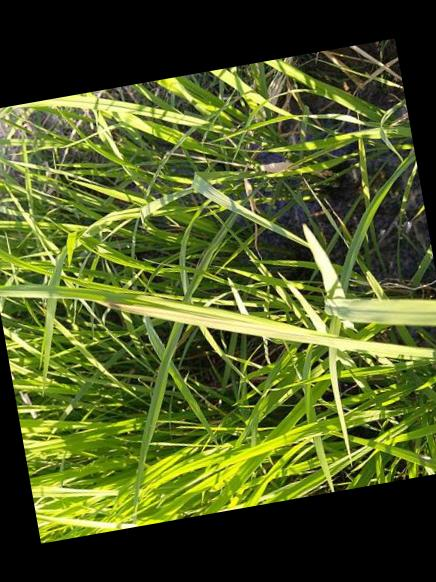Leaf Streak: (98, 301, 203, 324)
